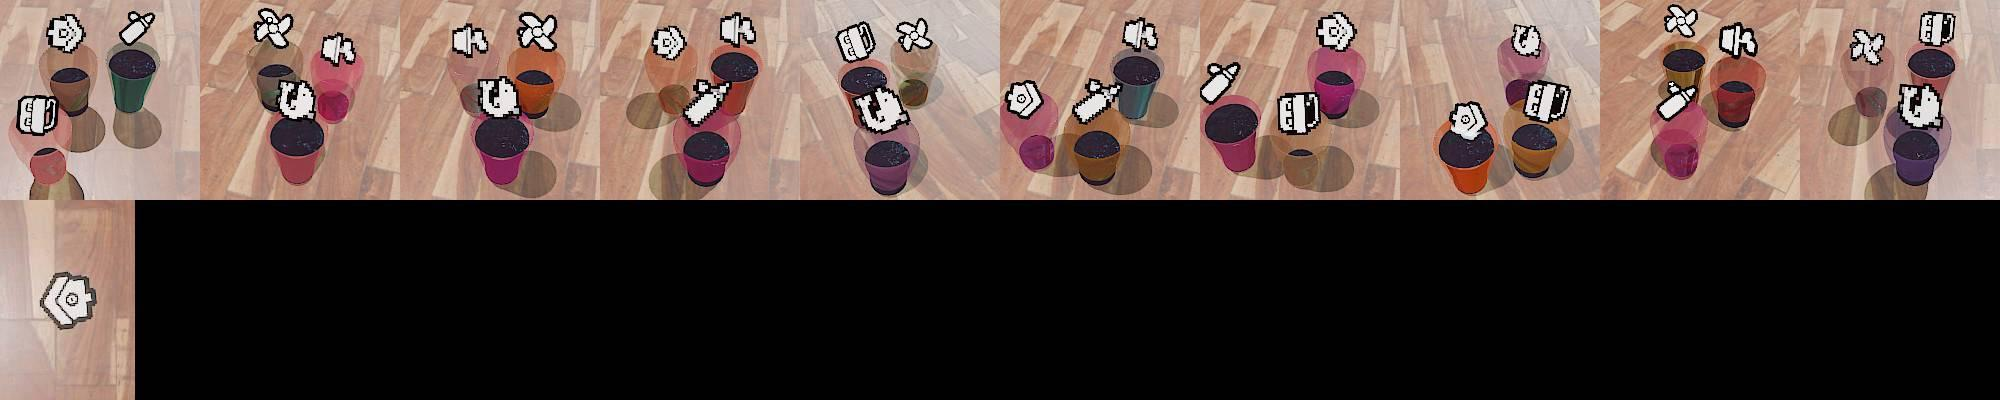icon: (37, 271, 97, 330), (854, 84, 910, 134), (1070, 77, 1123, 124), (681, 76, 731, 125), (1896, 82, 1944, 129), (1522, 79, 1572, 124), (1276, 90, 1323, 135), (476, 75, 523, 119), (274, 77, 318, 120), (516, 11, 560, 53), (1657, 79, 1701, 121), (836, 19, 877, 63), (1201, 60, 1241, 105), (15, 94, 58, 135), (253, 7, 295, 48), (1447, 99, 1488, 140), (46, 13, 86, 55), (1315, 12, 1355, 53), (1004, 78, 1043, 119), (1717, 21, 1759, 59), (719, 11, 759, 49), (1918, 11, 1957, 47), (651, 23, 687, 61), (1850, 28, 1886, 66), (1122, 17, 1159, 53), (895, 18, 933, 53), (452, 23, 489, 58), (1663, 3, 1700, 38), (321, 32, 357, 67), (119, 11, 154, 46), (1511, 22, 1542, 58)
